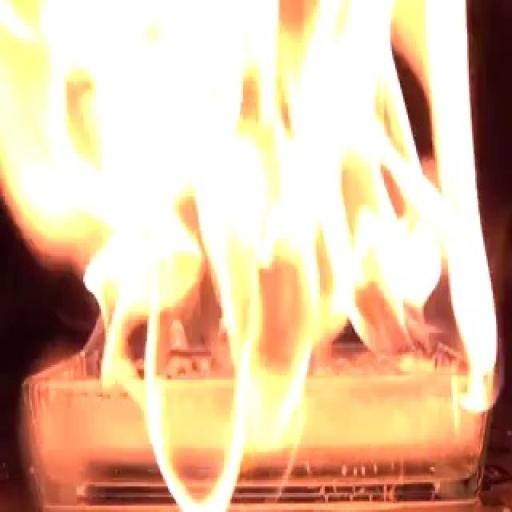smoke: (28, 2, 511, 501)
